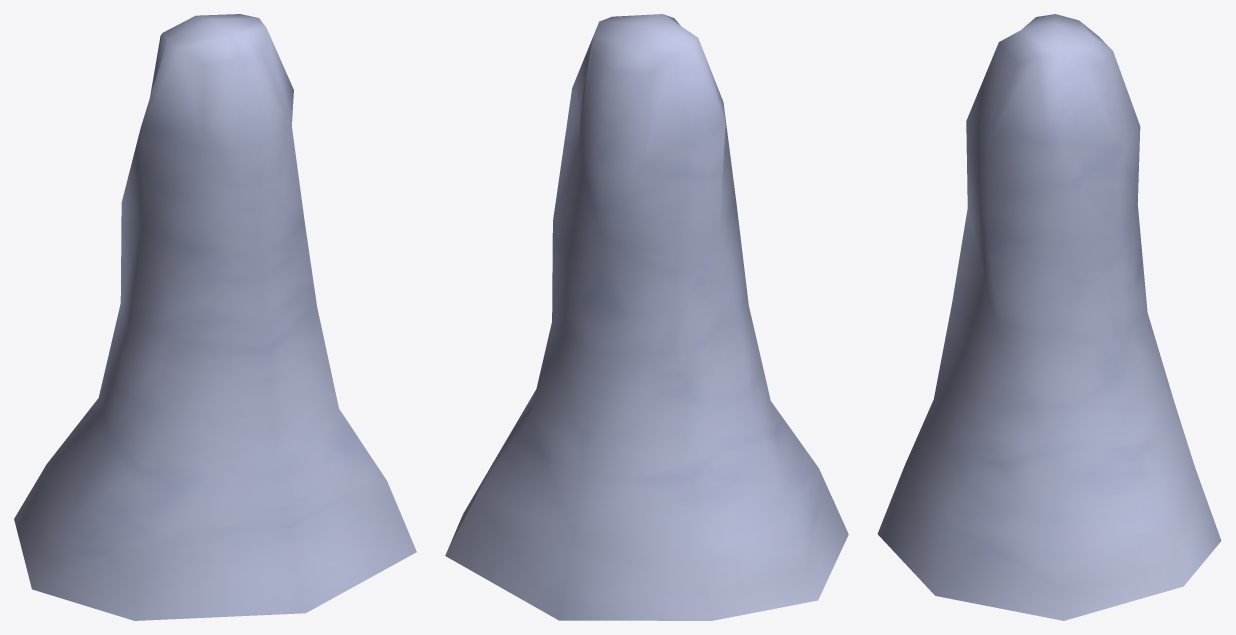
File: snow_pile_04.fbx
The picture shows the model from 3 angles, left to right: view 1: azimuth 30°, elevation 25°; view 2: azimuth 150°, elevation 25°; view 3: azimuth 270°, elevation 25°; orthographic projection. The views are drawn at different scales.
Visible parts, largest first — view 1: snow_pile_04; view 2: snow_pile_04; view 3: snow_pile_04.
Boxes of the visible parts, x1,y1,x2,y2 form: snow_pile_04: (14,14,416,620); snow_pile_04: (445,14,848,620); snow_pile_04: (877,14,1221,620).
Size of the model in its own units: 6.19 by 9.17 by 5.39.
